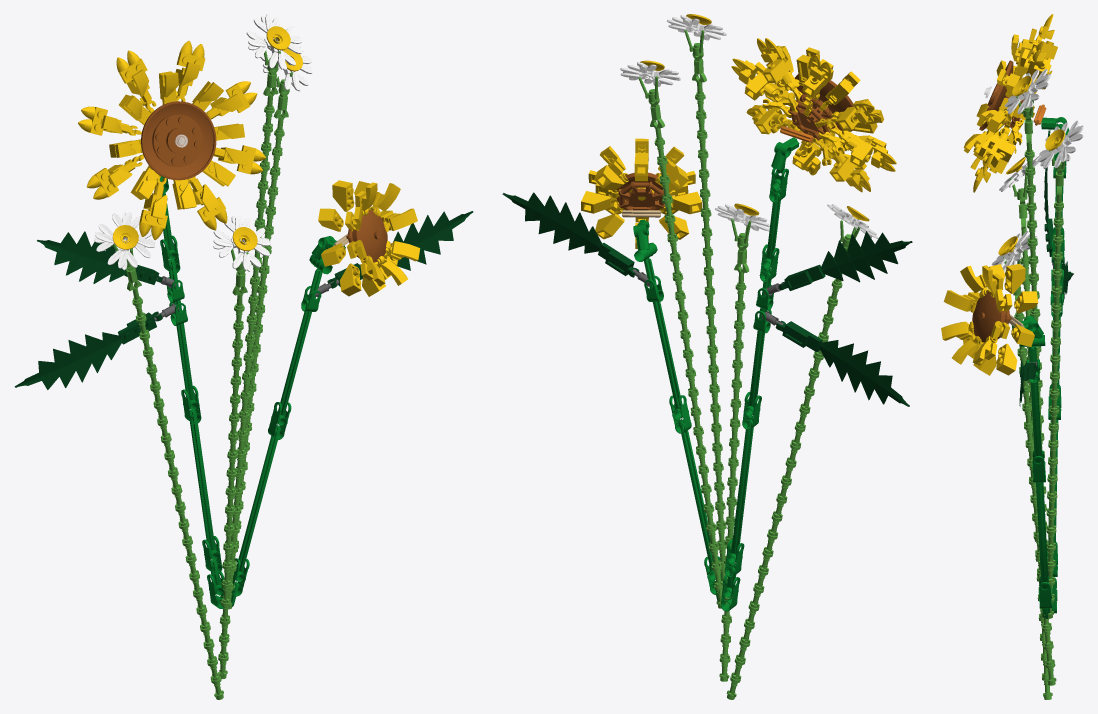
The model's file is sunflowers.glb.
The picture shows the model from 3 angles, left to right: view 1: azimuth 30°, elevation 25°; view 2: azimuth 150°, elevation 25°; view 3: azimuth 270°, elevation 25°; orthographic projection. The views are drawn at different scales.
Parts seen in each view (by area): view 1: p17, p129, p14, p143, p130, p135, p149, p3, p137, p5; view 2: p14, p143, p17, p146, p3, p137, p135, p5, p20; view 3: p149, p135, p137, p157, p172, p14, p154, p129, p167, p164, p151, p136 (+12 smaller).
Part boxes in pixels (x1,y1,x2,y2): p17: [14, 314, 156, 389]; p129: [141, 101, 216, 180]; p14: [37, 231, 159, 284]; p143: [336, 211, 473, 286]; p130: [152, 114, 202, 166]; p135: [236, 425, 280, 571]; p149: [352, 210, 387, 262]; p3: [189, 410, 214, 549]; p137: [278, 269, 322, 414]; p5: [168, 260, 193, 399]; p14: [787, 231, 912, 282]; p143: [502, 192, 634, 267]; p17: [788, 321, 909, 406]; p146: [618, 181, 664, 210]; p3: [731, 415, 753, 553]; p137: [644, 258, 682, 407]; p135: [678, 419, 713, 568]; p5: [749, 268, 771, 405]; p20: [788, 101, 829, 140]; p149: [972, 292, 1005, 342]; p135: [1036, 482, 1048, 589]; p137: [1029, 346, 1041, 462]; p157: [1004, 263, 1025, 293]; p172: [996, 343, 1017, 375]; p14: [1044, 130, 1053, 256]; p154: [1014, 291, 1038, 313]; p129: [979, 60, 1013, 130]; p167: [941, 321, 968, 340]; p164: [943, 290, 971, 311]; p151: [1011, 324, 1034, 346]; p136: [1032, 450, 1045, 482].
Bounding box in the file's own units: 38.01 × 56.42 × 11.27.
